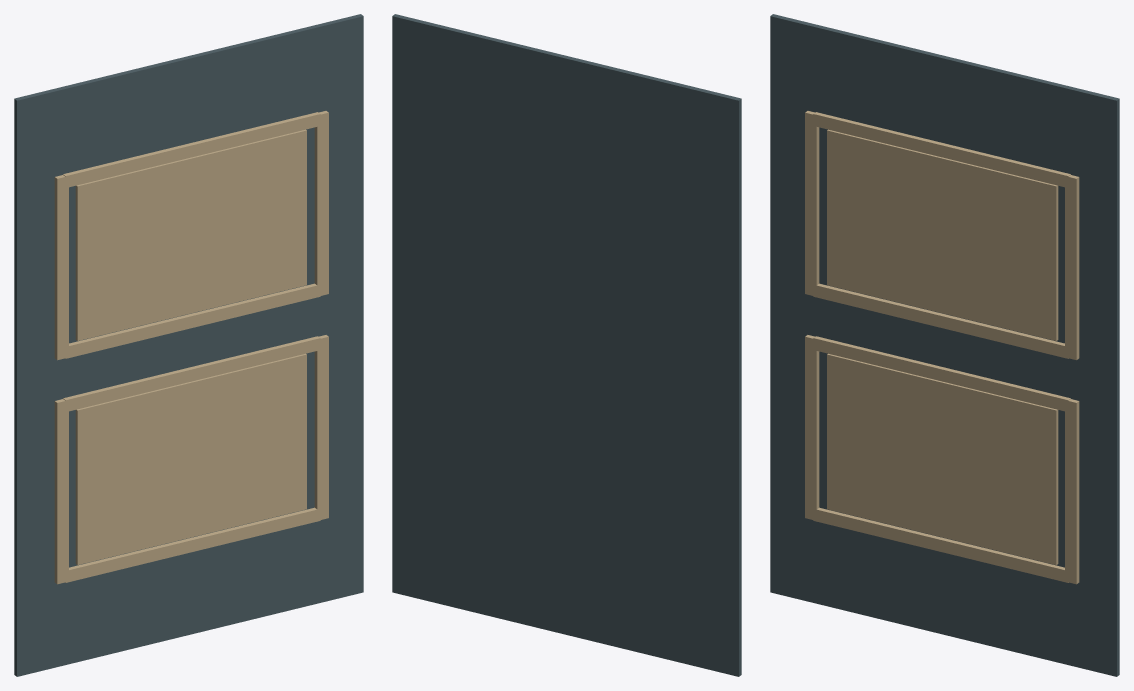
3 views of the same model, side by side, from view 1: azimuth 30°, elevation 25°; view 2: azimuth 150°, elevation 25°; view 3: azimuth 330°, elevation 25° (orthographic).
Visible parts, largest first — view 1: exterior-door-leaf, panel-1-inset, panel-2-inset, panel-2-top, panel-1-top, panel-1-bottom, panel-2-bottom, panel-1-left, panel-2-left, panel-2-right, panel-1-right; view 2: exterior-door-leaf; view 3: exterior-door-leaf, panel-1-inset, panel-2-inset, panel-1-top, panel-2-top, panel-1-bottom, panel-2-bottom, panel-2-right, panel-1-right, panel-1-left, panel-2-left.
Boxes of the visible parts, left/top/right/bottom form: exterior-door-leaf: left=14, top=14, right=363, bottom=676; panel-1-inset: left=75, top=129, right=306, bottom=340; panel-2-inset: left=75, top=353, right=306, bottom=565; panel-2-top: left=63, top=336, right=320, bottom=411; panel-1-top: left=63, top=112, right=320, bottom=187; panel-1-bottom: left=65, top=283, right=320, bottom=358; panel-2-bottom: left=65, top=507, right=320, bottom=582; panel-1-left: left=54, top=175, right=68, bottom=360; panel-2-left: left=54, top=399, right=68, bottom=584; panel-2-right: left=314, top=335, right=328, bottom=520; panel-1-right: left=314, top=111, right=328, bottom=295; exterior-door-leaf: left=392, top=14, right=741, bottom=676; exterior-door-leaf: left=770, top=14, right=1119, bottom=676; panel-1-inset: left=827, top=129, right=1058, bottom=340; panel-2-inset: left=827, top=353, right=1058, bottom=565; panel-1-top: left=813, top=112, right=1070, bottom=187; panel-2-top: left=813, top=336, right=1070, bottom=411; panel-1-bottom: left=813, top=283, right=1068, bottom=358; panel-2-bottom: left=813, top=507, right=1068, bottom=582; panel-2-right: left=1065, top=399, right=1079, bottom=584; panel-1-right: left=1065, top=175, right=1079, bottom=360; panel-1-left: left=805, top=111, right=819, bottom=296; panel-2-left: left=805, top=335, right=819, bottom=520.
Bounding box in the file's own units: 1.36 × 2.16 × 0.038.
